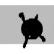not correct: (18, 11, 47, 49)
